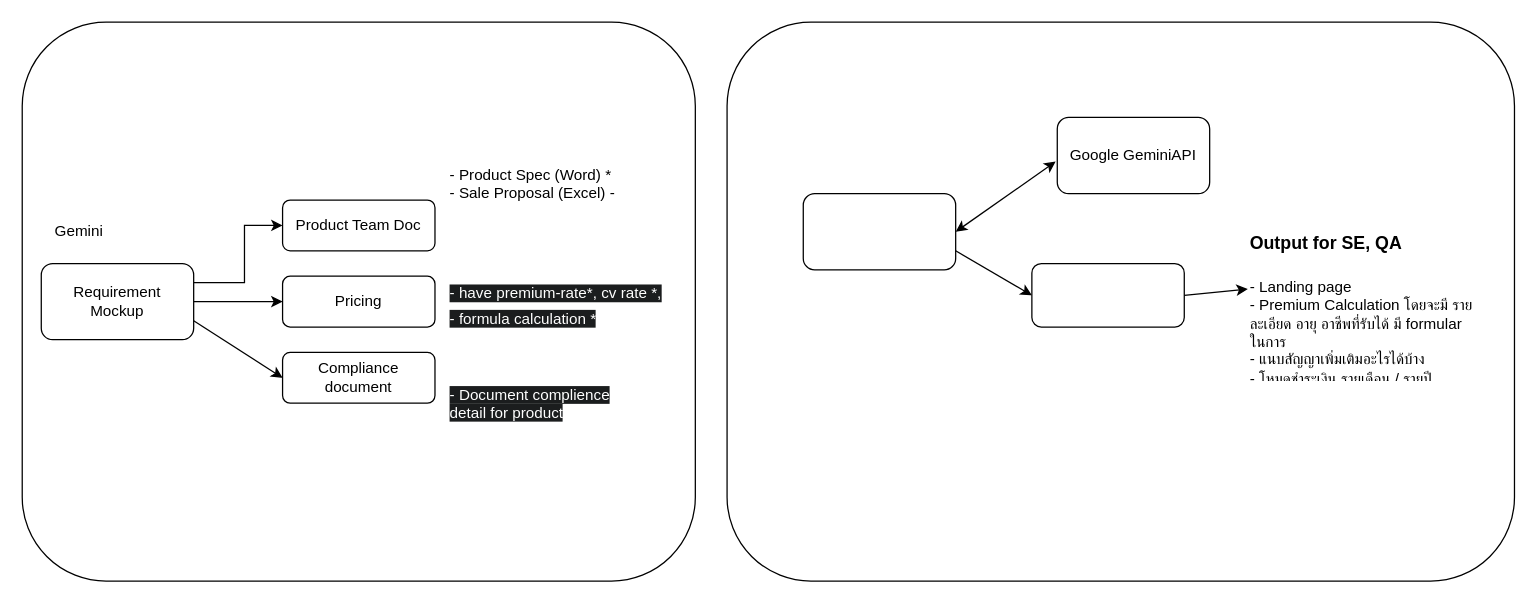
This 1537x603 diagram has some shape labels left out. Each missing label, with the centre of its shape:
"BSA" goes at (1107,294).
"Web App" goes at (879,231).
